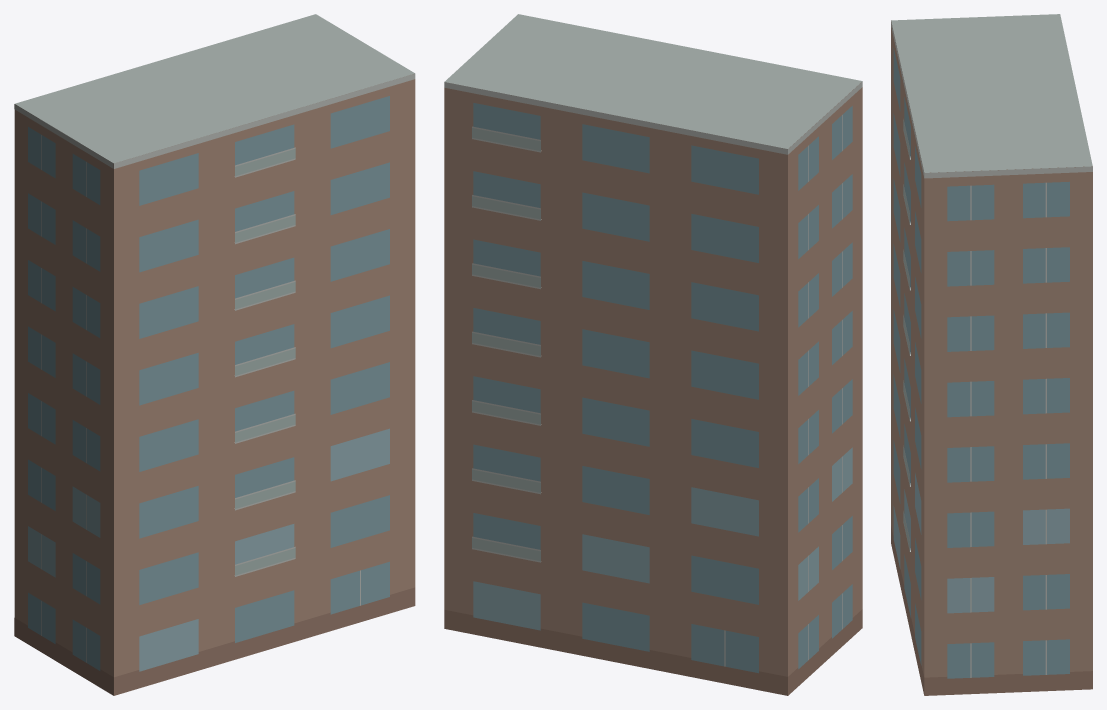
File: survey-upis-33013737.glb
3 views of the same model, side by side, from view 1: azimuth 30°, elevation 25°; view 2: azimuth 150°, elevation 25°; view 3: azimuth 270°, elevation 25° (orthographic). The views are drawn at different scales.
Visible parts, largest first — view 1: survey-upis-33013737.tmp; view 2: survey-upis-33013737.tmp; view 3: survey-upis-33013737.tmp.
Part boxes in pixels (box(x1,y1,x2,y2)): survey-upis-33013737.tmp: box(14, 14, 415, 695); survey-upis-33013737.tmp: box(444, 14, 862, 695); survey-upis-33013737.tmp: box(891, 14, 1092, 695).
Bounding box in the file's own units: 15.14 × 23.2 × 8.12.
